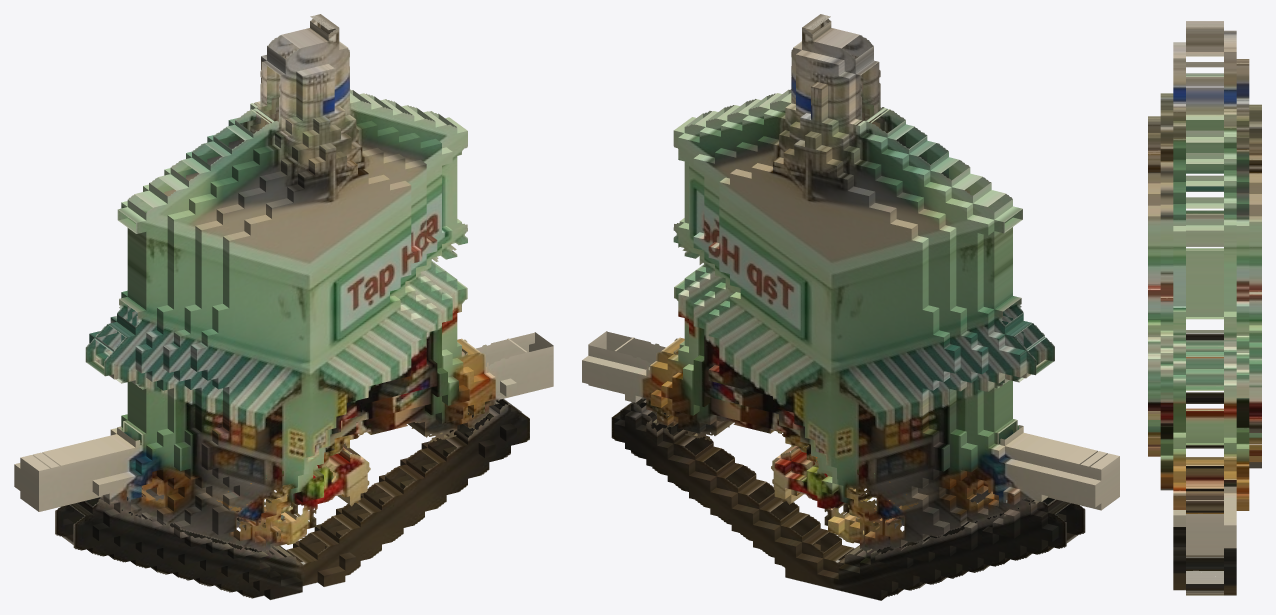
Rendered from house_1.glb.
3 renders of one model, left to right at view 1: azimuth 30°, elevation 25°; view 2: azimuth 150°, elevation 25°; view 3: azimuth 270°, elevation 25°, orthographic. The views are drawn at different scales.
Visible parts, largest first — view 1: house_1; view 2: house_1; view 3: house_1.
Boxes of the visible parts, <box> form: house_1: <box>14,14,553,600</box>; house_1: <box>582,14,1119,600</box>; house_1: <box>1148,21,1261,595</box>.
Bounding box in the file's own units: 48 × 49 × 9.
1 material, 1 textured.
